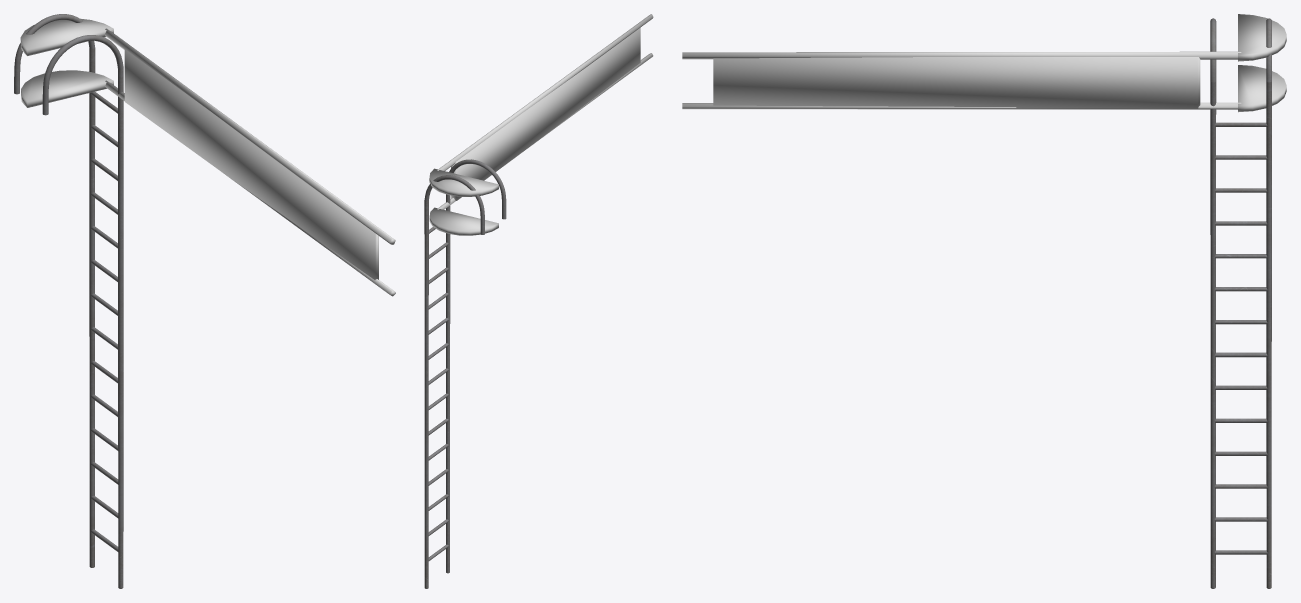
The model's file is SM_Ladder.fbx.
The picture shows the model from 3 angles, left to right: view 1: azimuth 30°, elevation 25°; view 2: azimuth 150°, elevation 25°; view 3: azimuth 270°, elevation 25°; orthographic projection. The views are drawn at different scales.
Visible parts, largest first — view 1: SM_Ladder_ConvexHulls, SM_Ladder; view 2: SM_Ladder_ConvexHulls, SM_Ladder; view 3: SM_Ladder_ConvexHulls, SM_Ladder.
Boxes of the visible parts, left/top/right/bottom form: SM_Ladder_ConvexHulls: left=20, top=18, right=395, bottom=296; SM_Ladder: left=14, top=14, right=123, bottom=588; SM_Ladder_ConvexHulls: left=429, top=14, right=653, bottom=235; SM_Ladder: left=424, top=159, right=506, bottom=588; SM_Ladder_ConvexHulls: left=682, top=14, right=1286, bottom=112; SM_Ladder: left=1210, top=18, right=1271, bottom=588.
Bounding box in the file's own units: 1.16 × 7.13 × 7.14.
